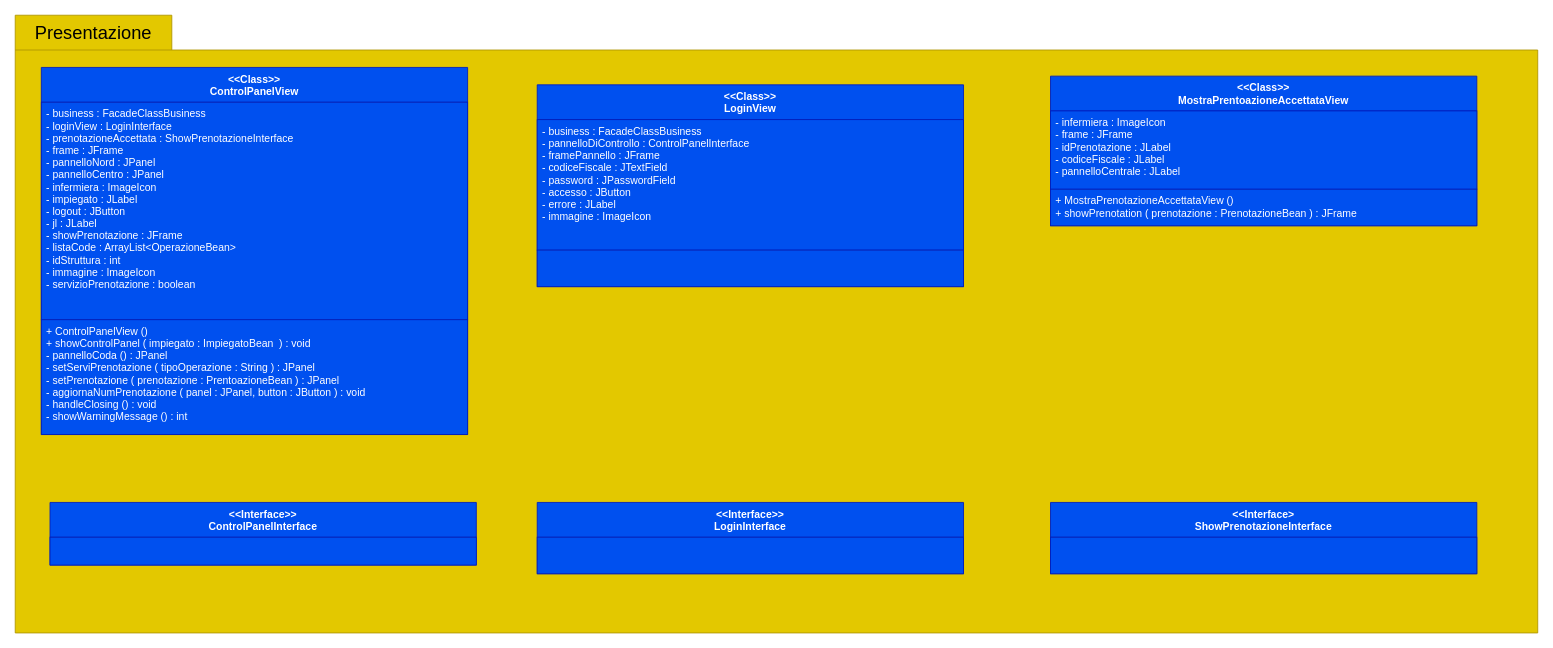
This 1553x648 diagram has some shape labels left out. The shapes that lost their labels are listed below. From the top down, each one's centre as x and y in pixels, then its label:
At (x=750, y=268): "+ LoginView () + showLoginView () : void".
At (x=262, y=550): "+ showControlPanel ( impiegato : ImpiegatoBean ) : void".
At (x=750, y=555): "+ showLoginView () : void".
At (x=1263, y=555): "+ showPrenotation ( prenotazione : PrenotazioneBean ) : JFrame".
